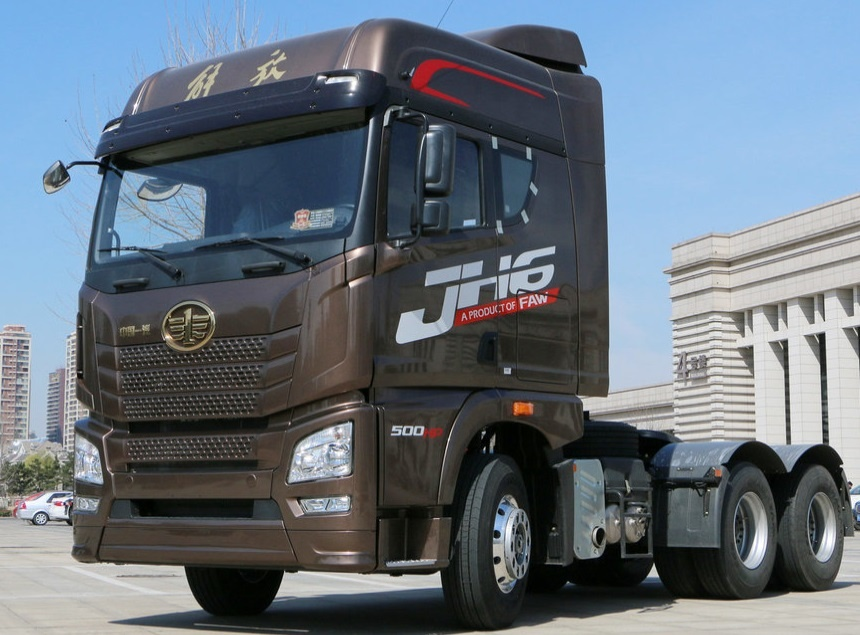heavy truck: (57, 21, 860, 624)
